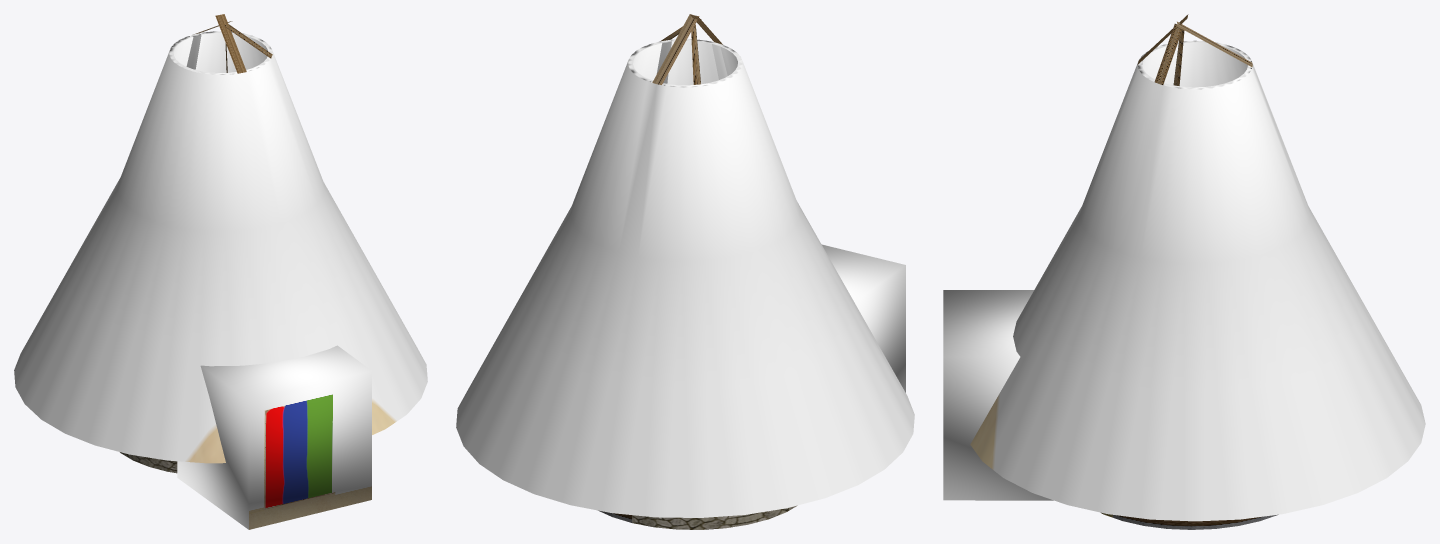
Rendered from inca_house_1.dae.
3 renders of one model, left to right at view 1: azimuth 30°, elevation 25°; view 2: azimuth 150°, elevation 25°; view 3: azimuth 270°, elevation 25°, orthographic. The views are drawn at different scales.
Parts seen in each view (by area): view 1: casa1; view 2: casa1; view 3: casa1.
Part boxes in pixels (box(x1,y1,x2,y2)): casa1: box(14, 14, 427, 529); casa1: box(456, 14, 914, 529); casa1: box(943, 14, 1425, 529).
Size of the model in its own units: 15.56 by 16.28 by 17.21.
1 material, 1 textured.
